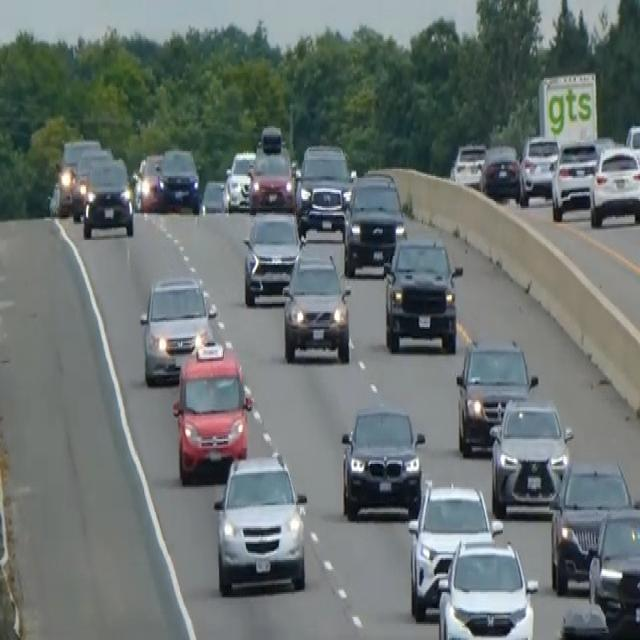car: (407, 478, 503, 620), (171, 338, 252, 483), (548, 457, 633, 595), (436, 535, 538, 638), (489, 395, 573, 517), (339, 403, 425, 521), (454, 336, 537, 457), (138, 272, 217, 386), (281, 249, 351, 364), (587, 502, 639, 636), (342, 170, 406, 276), (242, 208, 301, 306), (295, 140, 353, 233), (81, 156, 134, 238), (589, 142, 639, 228), (50, 135, 100, 215), (550, 137, 598, 220), (70, 146, 112, 220), (518, 132, 559, 204), (159, 144, 200, 212), (479, 141, 520, 199), (555, 601, 614, 638), (133, 151, 165, 212), (224, 150, 255, 212), (450, 140, 486, 188), (200, 178, 226, 215), (624, 123, 639, 169)
jeep: (211, 448, 310, 597)
lorry: (381, 233, 463, 355)
